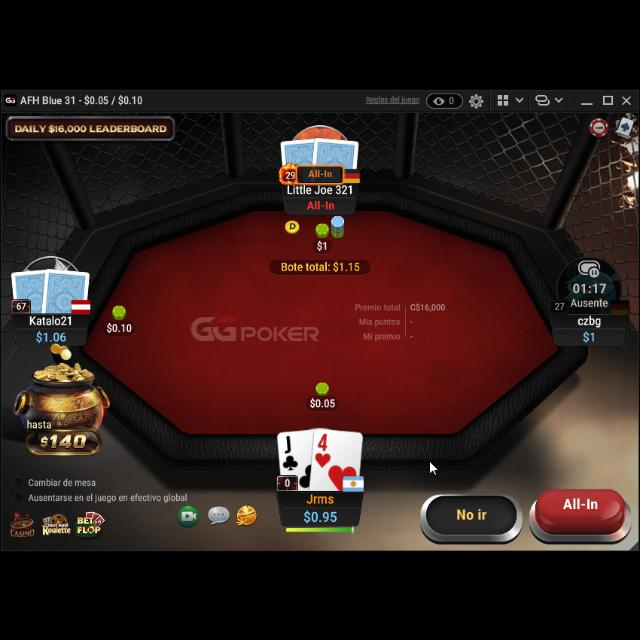4h: (314, 431, 332, 469)
Jc: (281, 432, 301, 471)
all_in_symbol: (306, 196, 336, 210)
bet_text: (105, 319, 134, 333), (310, 395, 336, 407), (315, 235, 329, 252), (315, 236, 329, 252)
card_back: (41, 264, 91, 314), (310, 132, 360, 178), (10, 266, 54, 312), (280, 134, 320, 182)
dealer: (284, 215, 302, 232)
pot_text: (280, 258, 362, 272)
stack_text: (302, 506, 340, 524), (36, 327, 68, 341), (582, 328, 596, 342)
